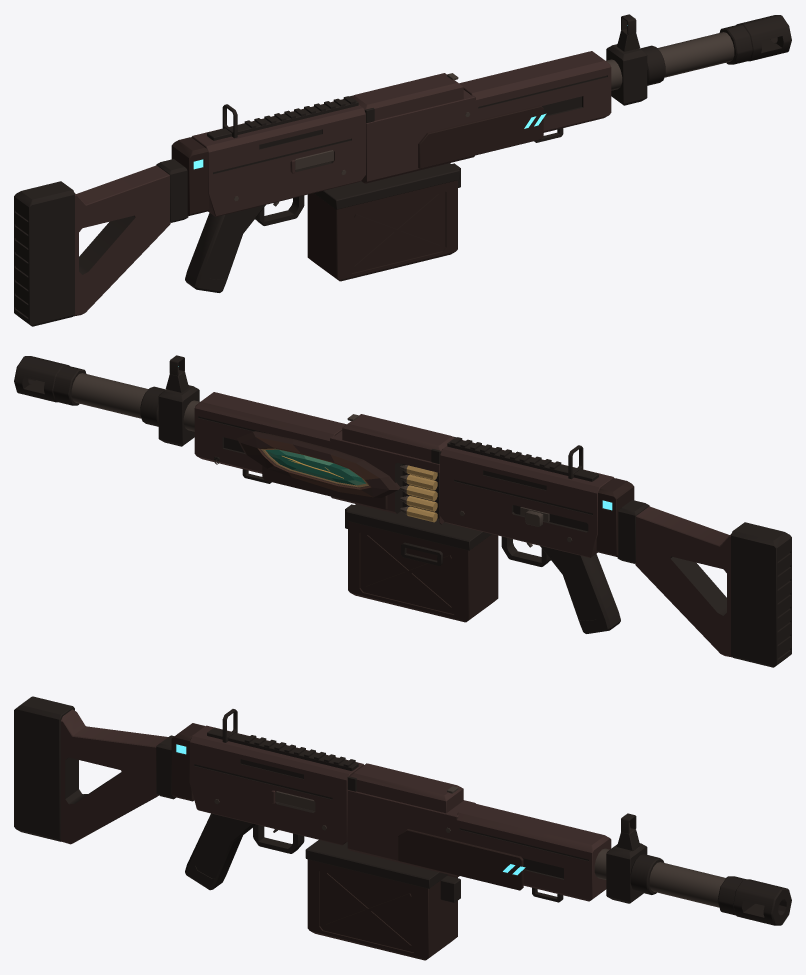
The model's file is Odin_Rootglass_v01.fbx.
3 views of the same model, one above another, from view 1: azimuth 30°, elevation 25°; view 2: azimuth 150°, elevation 25°; view 3: azimuth 330°, elevation 25° (orthographic).
Parts seen in each view (by area): view 1: Odin_Receiver, Odin_Stock, Odin_AmmoBox, Odin_Barrel, Odin_Grip, Odin_FeedCover, Odin_Sights; view 2: Odin_Receiver, Odin_Stock, Odin_AmmoBox, Odin_Barrel, Rootglass_Left_CarvedShell, Odin_Grip, Odin_FeedCover, Odin_Sights, Odin_FeedBelt, Rootglass_Left_FacetedMineral; view 3: Odin_Receiver, Odin_Stock, Odin_AmmoBox, Odin_Barrel, Odin_FeedCover, Odin_Grip, Odin_Sights, Odin_Bolt.
Part boxes in pixels (x1,y1,x2,y2): Odin_Receiver: (171, 51, 611, 225); Odin_Stock: (14, 159, 188, 326); Odin_AmmoBox: (307, 163, 460, 281); Odin_Barrel: (606, 15, 791, 90); Odin_Grip: (185, 205, 265, 292); Odin_FeedCover: (349, 73, 463, 123); Odin_Sights: (222, 14, 647, 138); Odin_Receiver: (194, 392, 634, 566); Odin_Stock: (617, 500, 791, 667); Odin_AmmoBox: (345, 504, 498, 622); Odin_Barrel: (14, 356, 199, 431); Rootglass_Left_CarvedShell: (237, 431, 400, 497); Odin_Grip: (540, 546, 620, 633); Odin_FeedCover: (342, 414, 456, 464); Odin_Sights: (158, 355, 583, 479); Odin_FeedBelt: (400, 465, 437, 522); Rootglass_Left_FacetedMineral: (265, 449, 365, 485); Odin_Receiver: (171, 723, 611, 902); Odin_Stock: (14, 696, 175, 844); Odin_AmmoBox: (305, 840, 460, 960); Odin_Barrel: (594, 848, 791, 925); Odin_FeedCover: (347, 763, 463, 813); Odin_Grip: (185, 813, 255, 890); Odin_Sights: (222, 709, 647, 903); Odin_Bolt: (275, 791, 315, 811).
Size of the model in its own units: 461 by 109 by 33.54.
